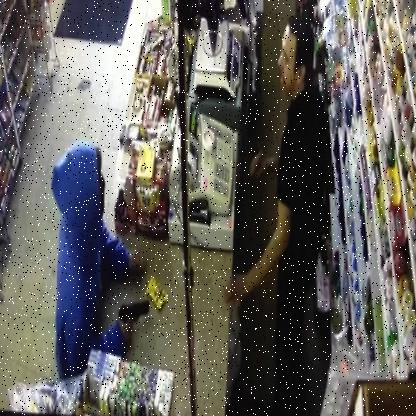pistol: (115, 294, 152, 341)
